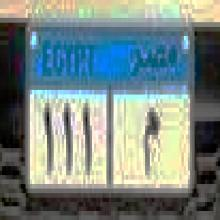1: (41, 96, 59, 179), (58, 100, 77, 178), (80, 104, 98, 178)
meem: (134, 99, 159, 176)
